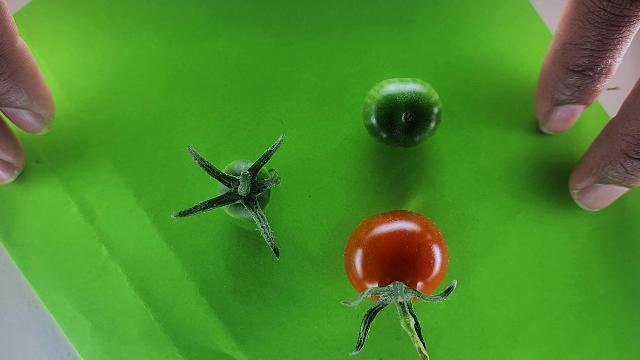Fruit Maturation: (362, 76, 444, 149), (220, 160, 274, 219)
Fully Grown: (343, 209, 451, 301)
